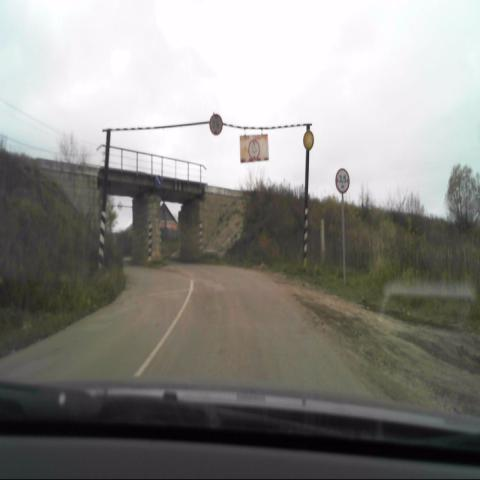3_13: (208, 112, 222, 137)
3_14: (336, 168, 351, 195)
